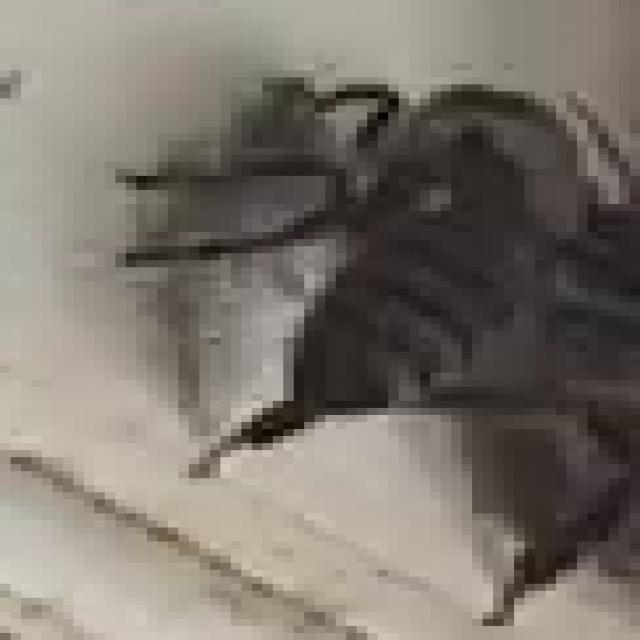honeybee: (141, 74, 604, 470)
